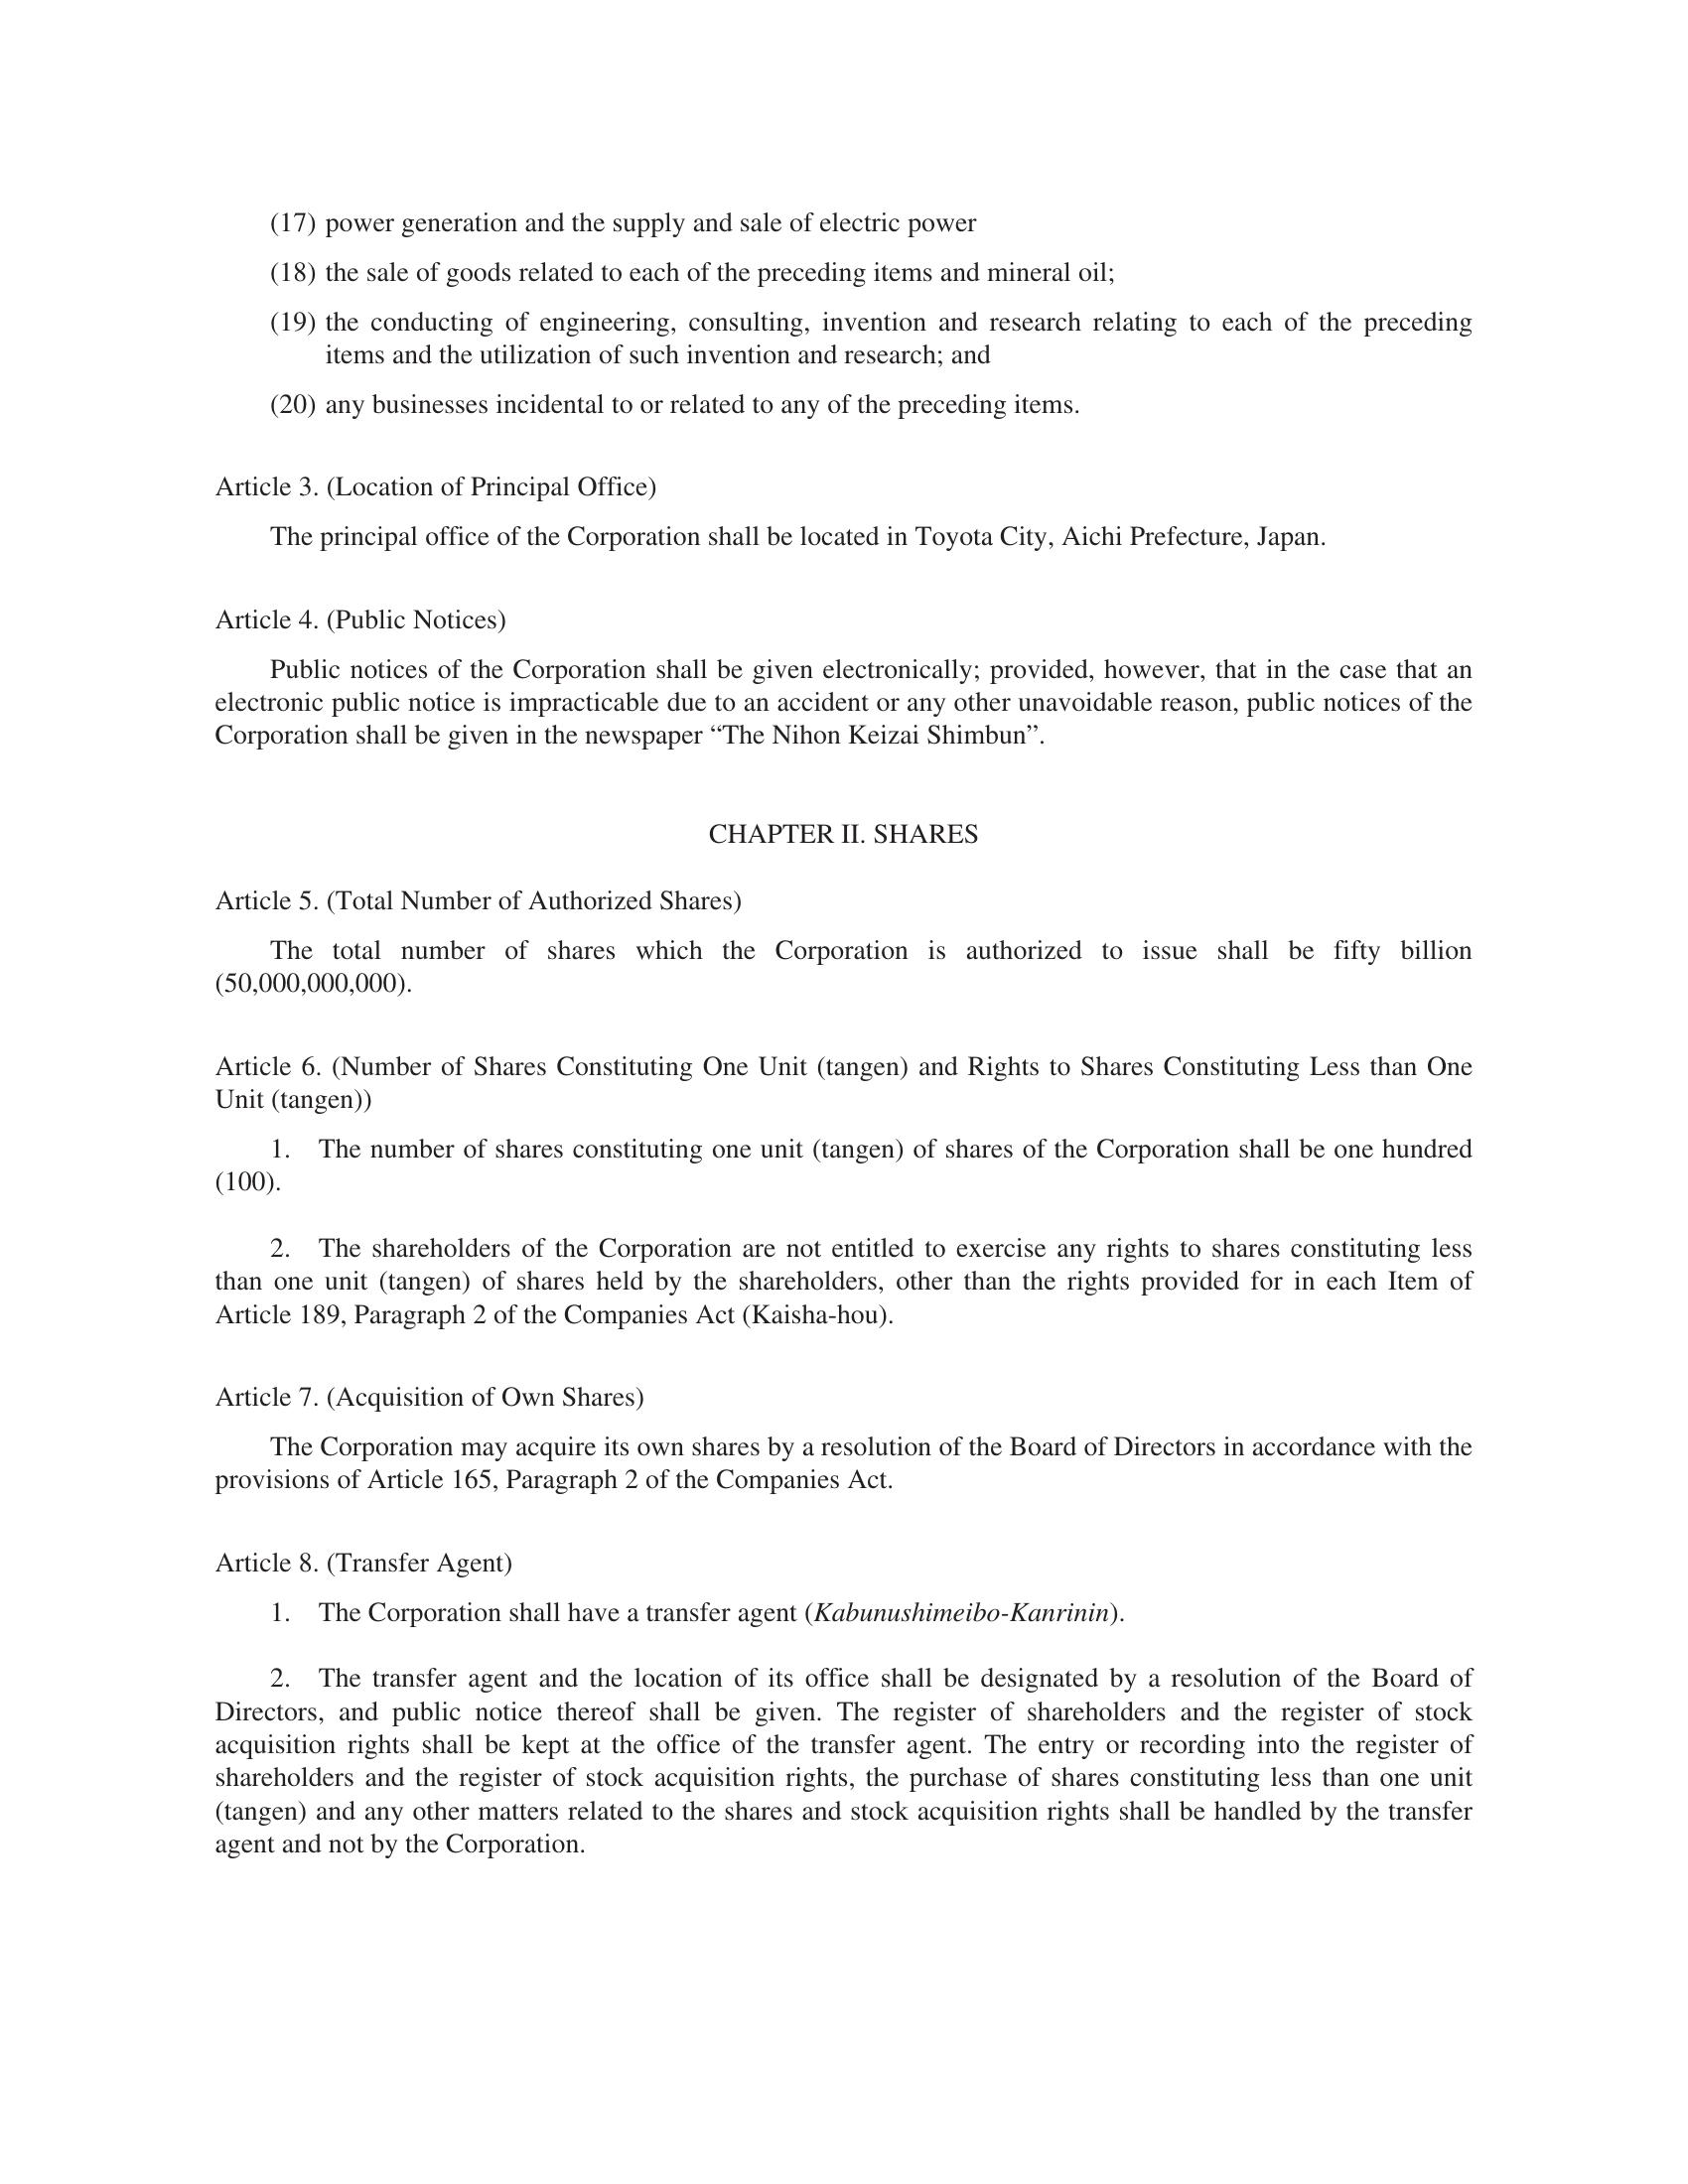Footer: (0, 1980, 1688, 2184)
Header: (0, 0, 1688, 175)
